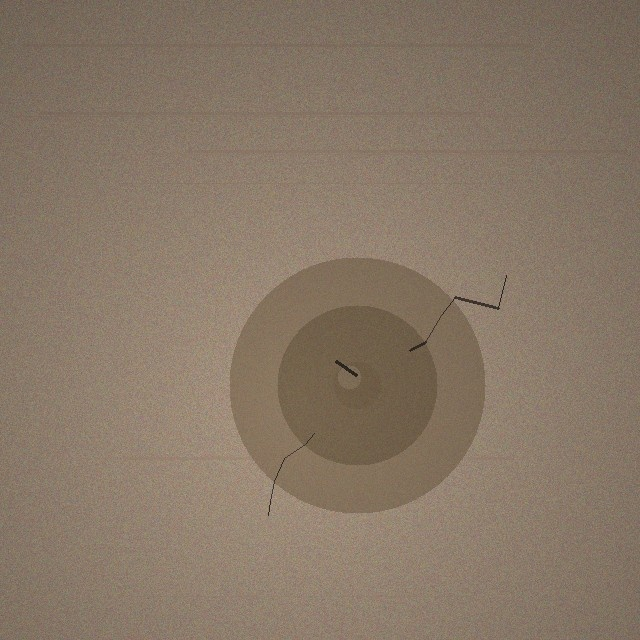crack: (229, 257, 485, 513)
